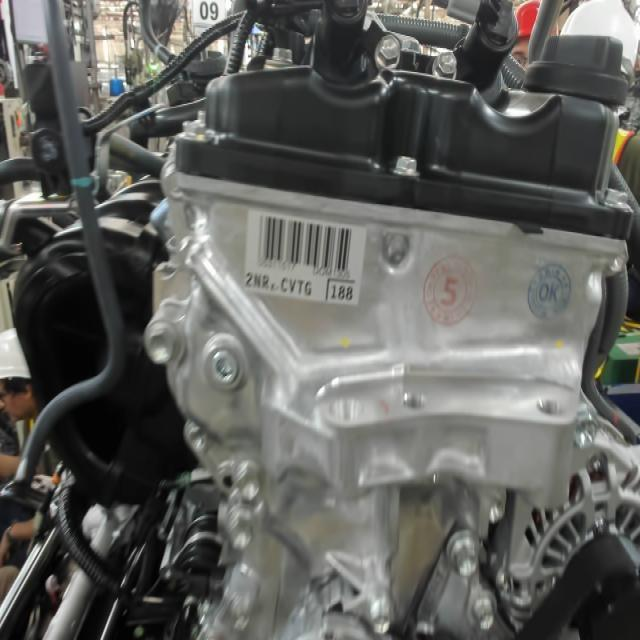Engine Assy-188: (325, 276, 357, 303)
Hose Canister-HJ: (67, 174, 93, 194)
